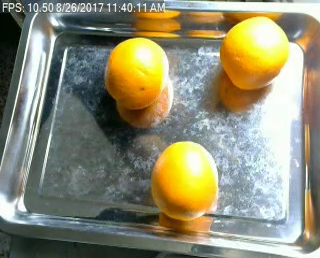Orange: (151, 141, 217, 218), (221, 16, 290, 89), (105, 37, 168, 110)
